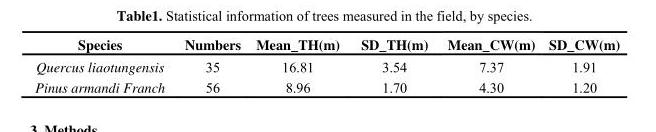table: (34, 34, 619, 95)
table column: (34, 34, 174, 95), (437, 34, 541, 95), (247, 34, 349, 95), (349, 34, 437, 95), (541, 34, 619, 95), (174, 34, 247, 95)
table column header: (34, 34, 619, 55)
table row: (34, 34, 619, 55), (34, 55, 619, 76), (34, 76, 619, 95)
